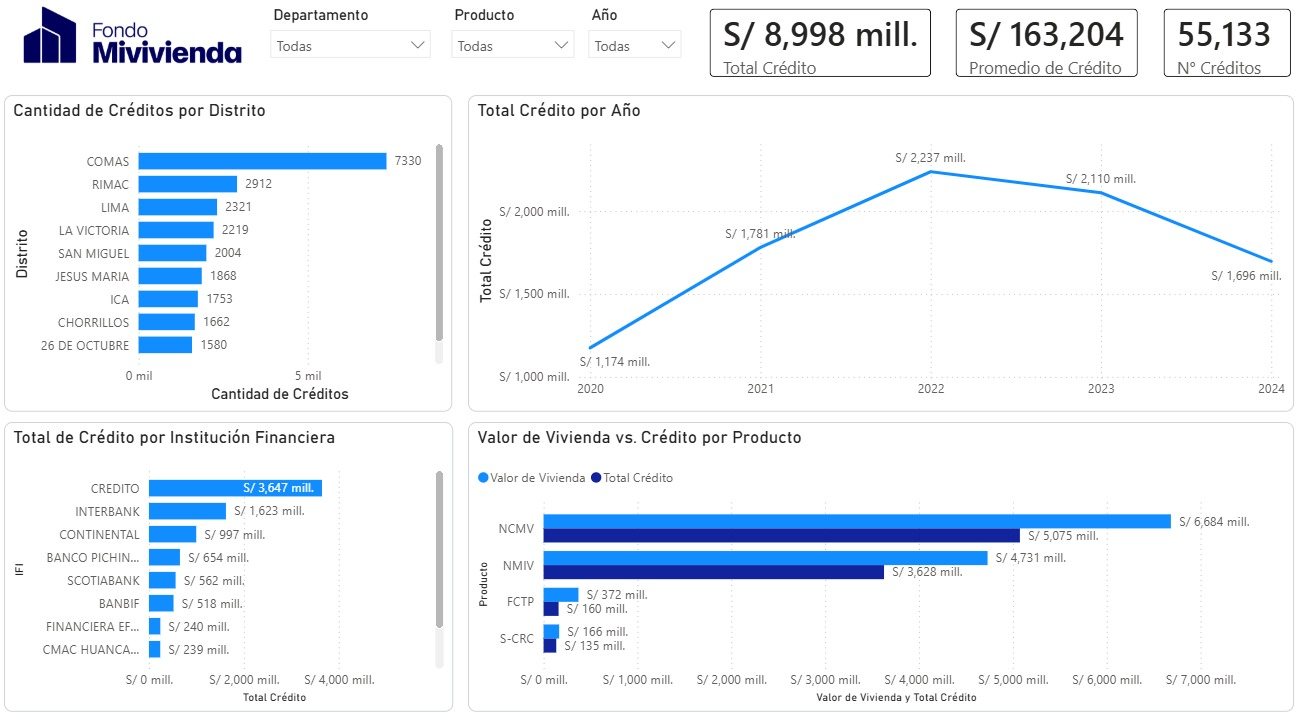

What the dashboard file says about the page in this screenshot:
{"tool":"powerbi","page":{"name":"Página 1","canvas":[1280,720],"ordinal":0},"visuals":[{"type":"slicer","fields":{"Values":["limpio_mivivienda.DEPARTAMENTO"]},"box":[268.4,9.7,175.1,69.1],"z":1000},{"type":"slicer","fields":{"Values":["limpio_mivivienda.DEPARTAMENTO"]},"box":[257,9.7,175.1,69.1],"z":2000},{"type":"slicer","fields":{"Values":["limpio_mivivienda.PRODUCTO"]},"box":[431.8,9.7,139.1,70],"z":3000},{"type":"slicer","fields":{"Values":["Tiempo.AÑO"]},"box":[564.2,9.7,109.9,59.3],"z":4000},{"type":"cardVisual","title":"Promedio de Credito","fields":{"Data":["Medidas.Promedio de Credito"]},"box":[911.9,0,210.6,100.5],"z":5000},{"type":"cardVisual","fields":{"Data":["Medidas.Cantidad de Creditos"]},"box":[1112.9,0,157.5,100.5],"z":6000},{"type":"barChart","title":"Cantidad de Créditos por Distrito","fields":{"Category":["limpio_mivivienda.DISTRITO"],"Y":["Medidas.Cantidad de Creditos"]},"box":[9.7,100.4,433.4,306],"z":7000},{"type":"lineChart","title":"Total Crédito por Año","fields":{"Y":["Medidas.Total Credito"],"Category":["Tiempo.AÑO"]},"box":[457.9,100.5,797.9,306.2],"z":8000},{"type":"clusteredBarChart","title":"Total de Crédito por Institución Financiera","fields":{"Category":["limpio_mivivienda.IFI"],"Y":["Medidas.Total Credito"]},"box":[9.7,416.4,433.8,280.2],"z":9000},{"type":"cardVisual","fields":{"Data":["Medidas.Total Credito"]},"box":[674.3,0,248.3,100.5],"z":10000},{"type":"clusteredBarChart","title":"Valor de Vivienda vs. Crédito por Producto","fields":{"Y":["Sum(limpio_mivivienda.MONTO_VALOR_VIVIENDA)","Medidas.Total Credito"],"Category":["limpio_mivivienda.PRODUCTO"]},"box":[457.9,416.4,797.9,280.2],"z":11000},{"type":"image","box":[9.7,0,247.3,97.6],"z":11001}]}

Visuals, with their boxes in screenshot pixels (x1, y1, x2, y2), scaled from the page's 1280x720 canvas onto the 1308x720 screenshot:
slicer - limpio_mivivienda.DEPARTAMENTO: <box>274,10,453,79</box>
slicer - limpio_mivivienda.DEPARTAMENTO: <box>263,10,442,79</box>
slicer - limpio_mivivienda.PRODUCTO: <box>441,10,583,80</box>
slicer - Tiempo.AÑO: <box>577,10,689,69</box>
"Promedio de Credito" cardVisual: <box>932,0,1147,100</box>
cardVisual - Medidas.Cantidad de Creditos: <box>1137,0,1298,100</box>
"Cantidad de Créditos por Distrito" barChart: <box>10,100,453,406</box>
"Total Crédito por Año" lineChart: <box>468,100,1283,407</box>
"Total de Crédito por Institución Financiera" clusteredBarChart: <box>10,416,453,697</box>
cardVisual - Medidas.Total Credito: <box>689,0,943,100</box>
"Valor de Vivienda vs. Crédito por Producto" clusteredBarChart: <box>468,416,1283,697</box>
image: <box>10,0,263,98</box>
